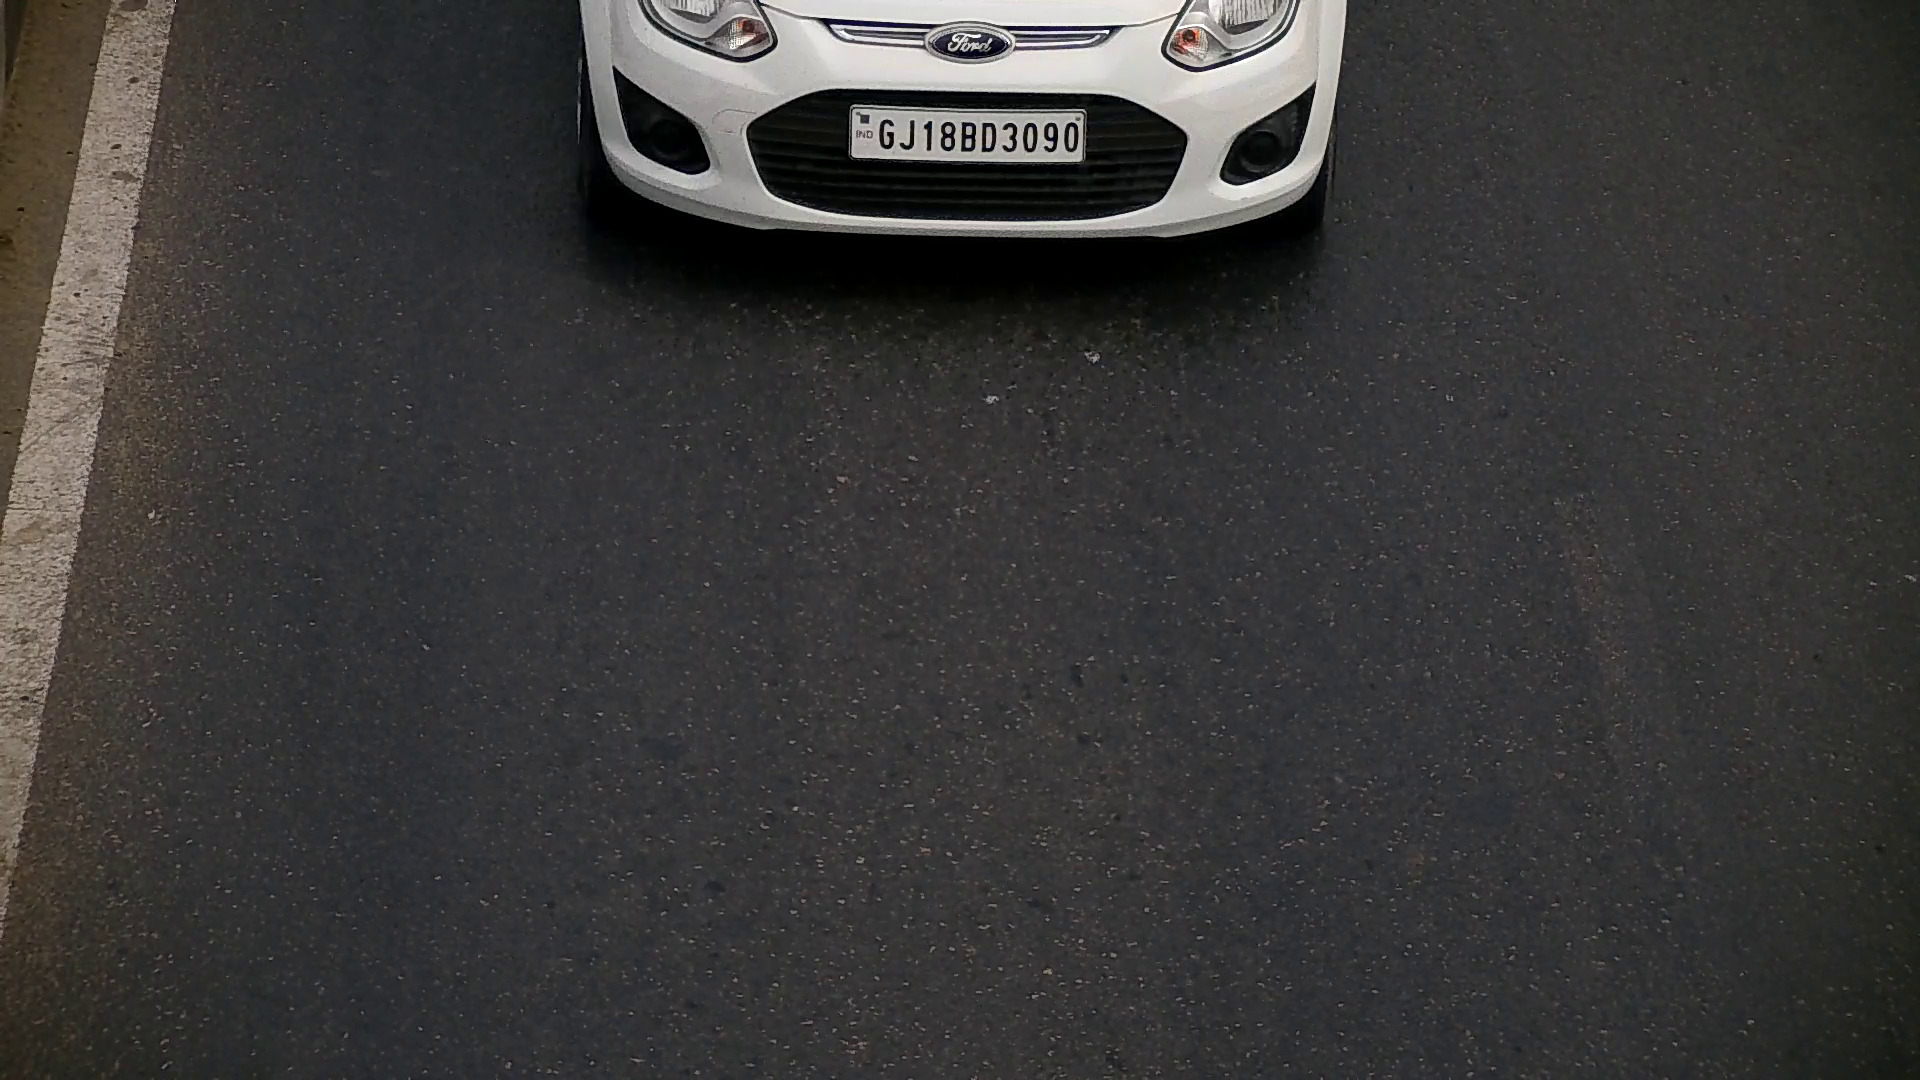numberplate: (849, 99, 1084, 167)
